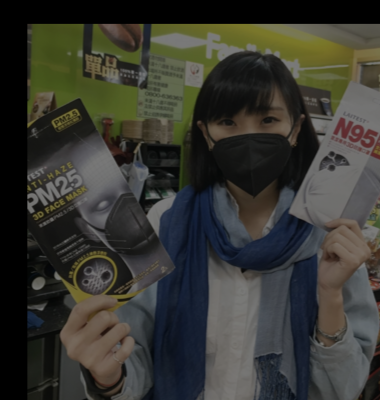with_mask: (206, 104, 294, 196)
